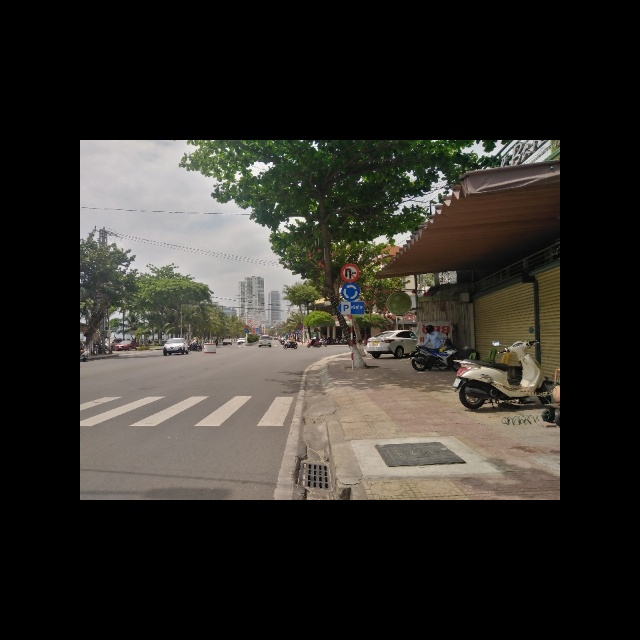Cấm xe ô tô quay đầu: (341, 263, 360, 283)
Nơi giao nhau chạy theo vòng xuyến: (341, 283, 360, 301)
Nơi đỗ xe: (337, 302, 365, 315)
